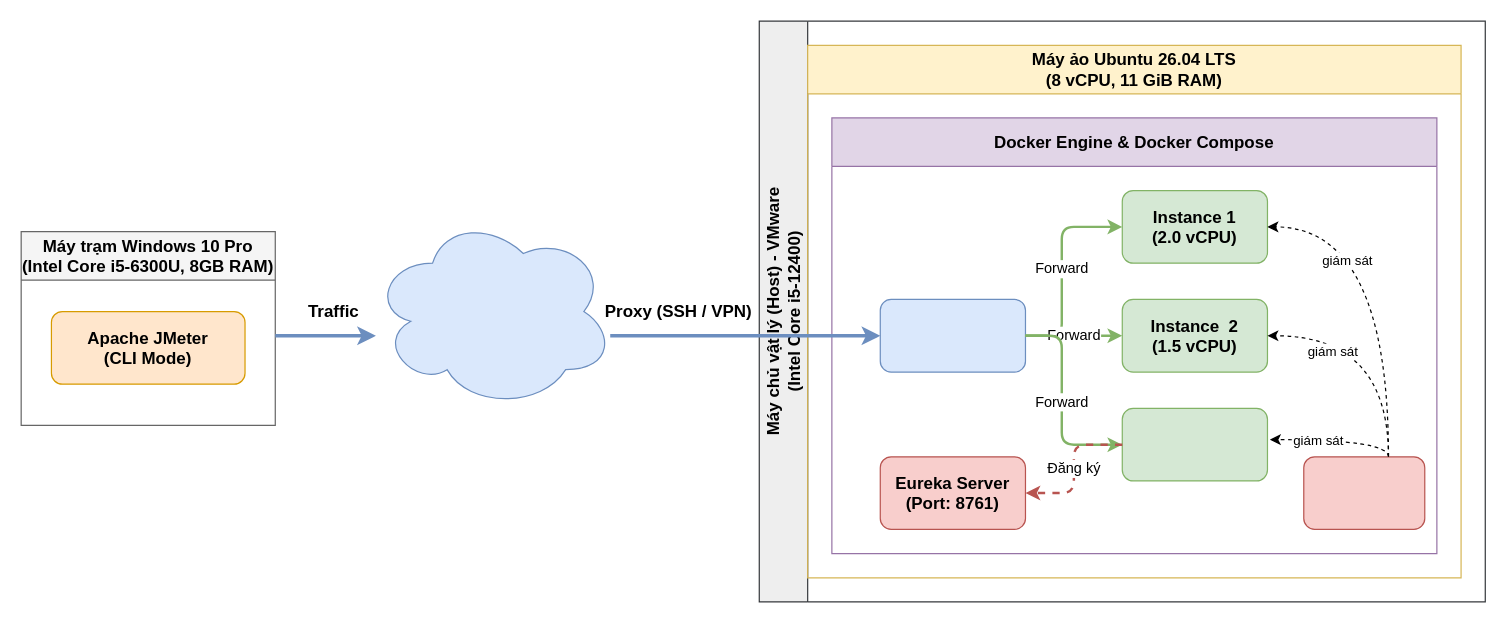
The diagram is 1506 pixels wide and 623 high, and some of its shapes have lost their labels. The shapes that lost their labels are listed below. From the top down, each one's centre as x and y in pixels, then its label:
At (492,311): "Mạng riêng ảo Tailscale (Tunnel mã hóa)".
At (952,335): "API Gateway (Port: 8080)".
At (1194,444): "Instance 3 (1.0 vCPU)".
At (1364,492): "Prometheus & Grafana".
